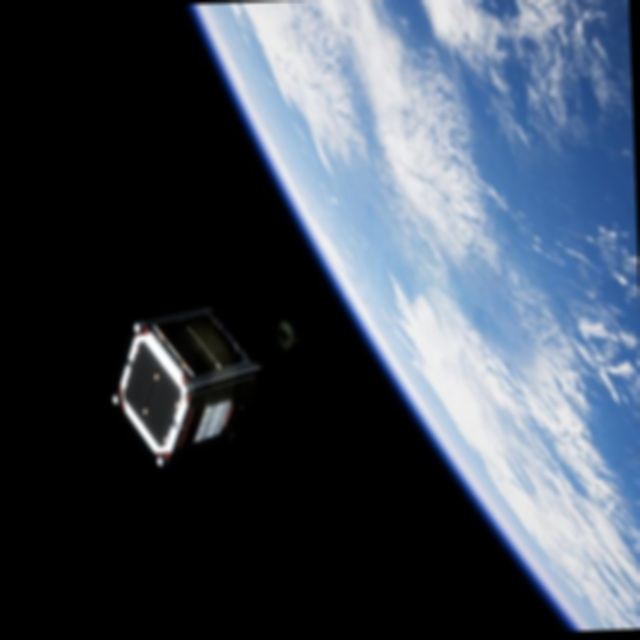satellite: (98, 300, 280, 478)
